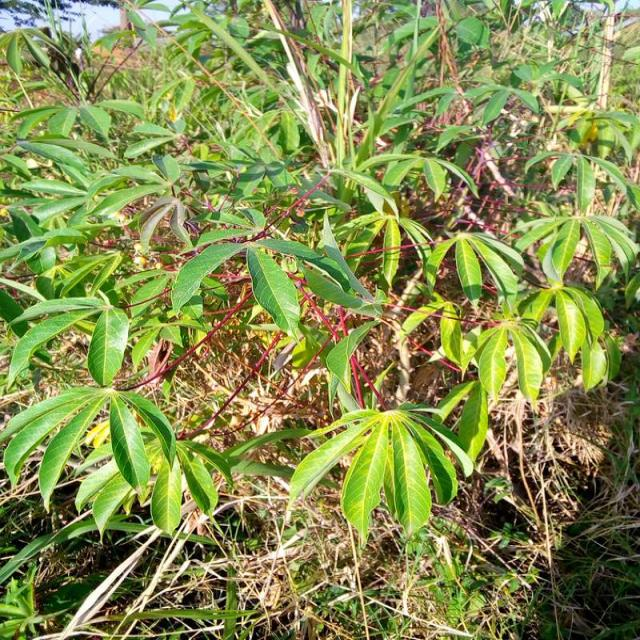cassava leaf: (286, 398, 474, 544), (245, 242, 301, 341)
